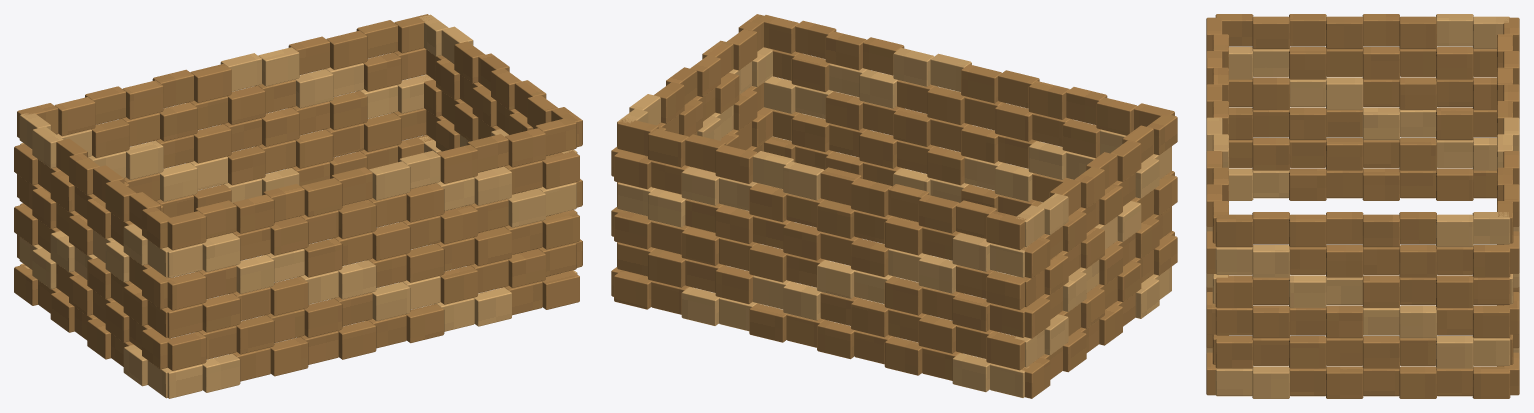
File: Woven-walls.glb
3 views of the same model, side by side, from view 1: azimuth 30°, elevation 25°; view 2: azimuth 150°, elevation 25°; view 3: azimuth 270°, elevation 25° (orthographic).
Visible parts, largest first — view 1: Woven-walls; view 2: Woven-walls; view 3: Woven-walls.
Boxes of the visible parts, x1,y1,x2,y2 form: Woven-walls: [14, 14, 582, 398]; Woven-walls: [611, 14, 1177, 398]; Woven-walls: [1206, 14, 1519, 398].
Size of the model in its own units: 0.602 by 0.241 by 0.384.
Materials: 2 (2 with a texture image).
